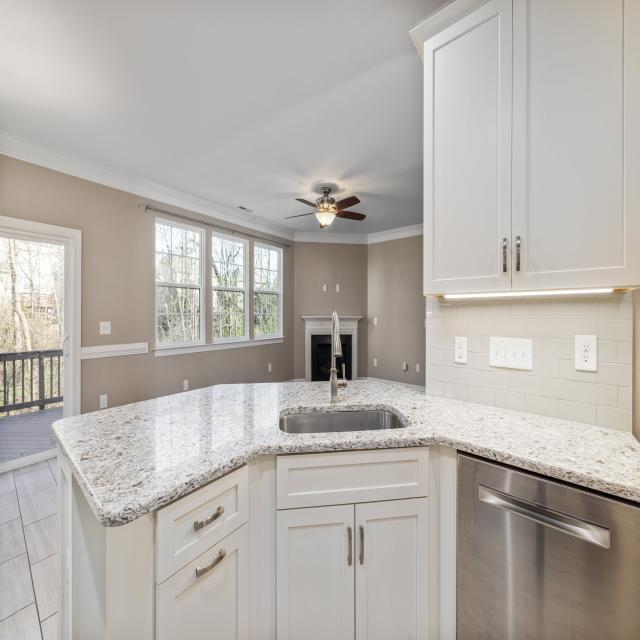Appliance_Dishwasher: (456, 454, 640, 640)
Appliance_Sink: (279, 405, 411, 434), (329, 312, 343, 405)
Cabinet_Shaker: (112, 446, 460, 640), (423, 0, 640, 299)
Countertop_Granite: (52, 378, 640, 528)
